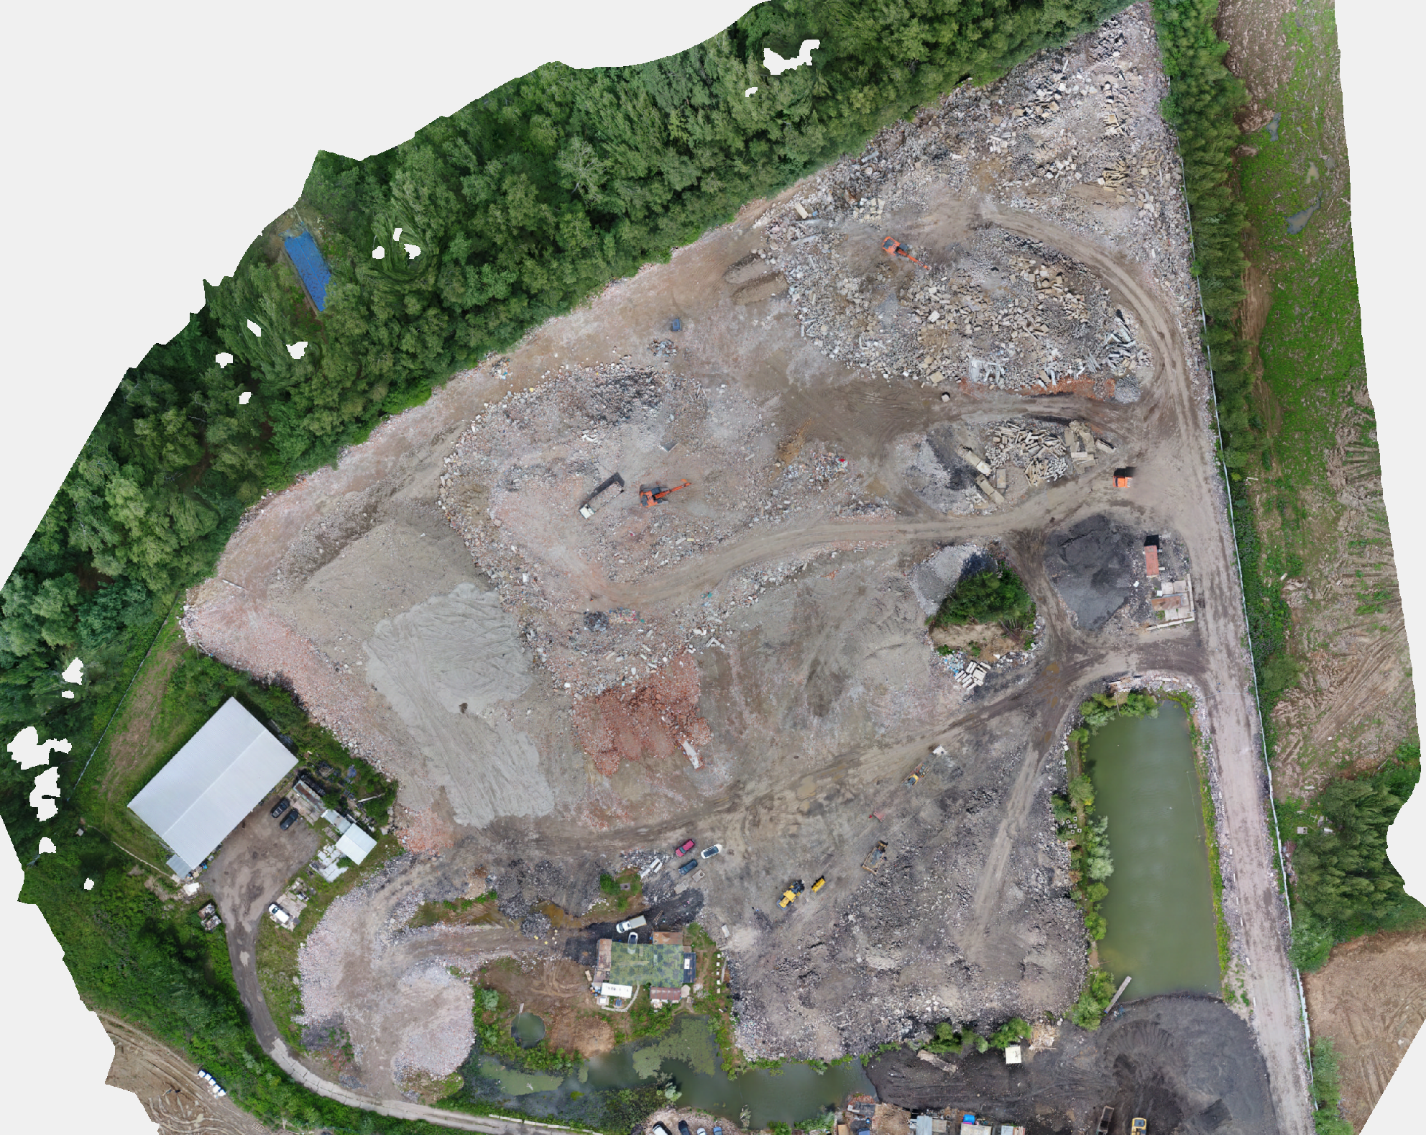build: (124, 689, 302, 874)
